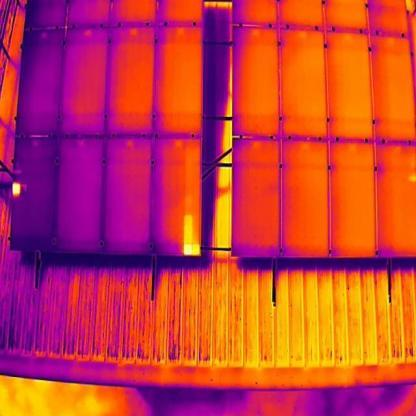anomaly: (182, 208, 203, 256), (5, 181, 26, 199)
